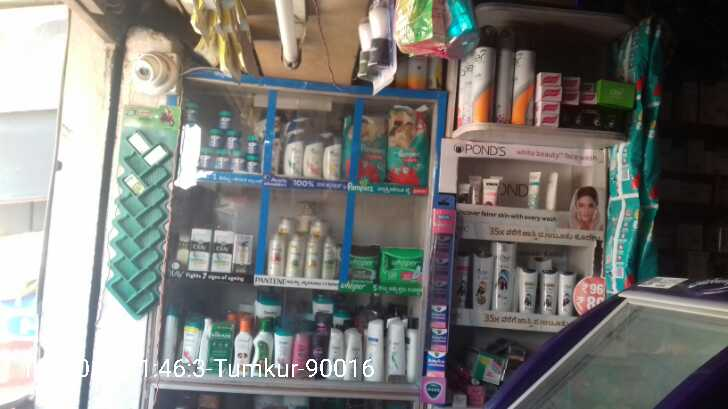beauty: (183, 228, 213, 273), (301, 136, 324, 179), (282, 235, 303, 279), (322, 136, 342, 180), (283, 135, 303, 178), (231, 236, 252, 275), (213, 234, 231, 275), (306, 235, 321, 282), (268, 233, 284, 275), (323, 239, 339, 280)
pharmacy: (387, 107, 428, 191), (343, 113, 385, 183), (383, 249, 423, 286), (349, 246, 382, 279), (216, 105, 234, 129), (209, 124, 223, 151), (246, 150, 261, 175), (214, 149, 229, 171), (195, 146, 209, 169), (184, 103, 199, 124), (228, 152, 244, 169), (226, 132, 240, 151), (244, 132, 257, 150)
